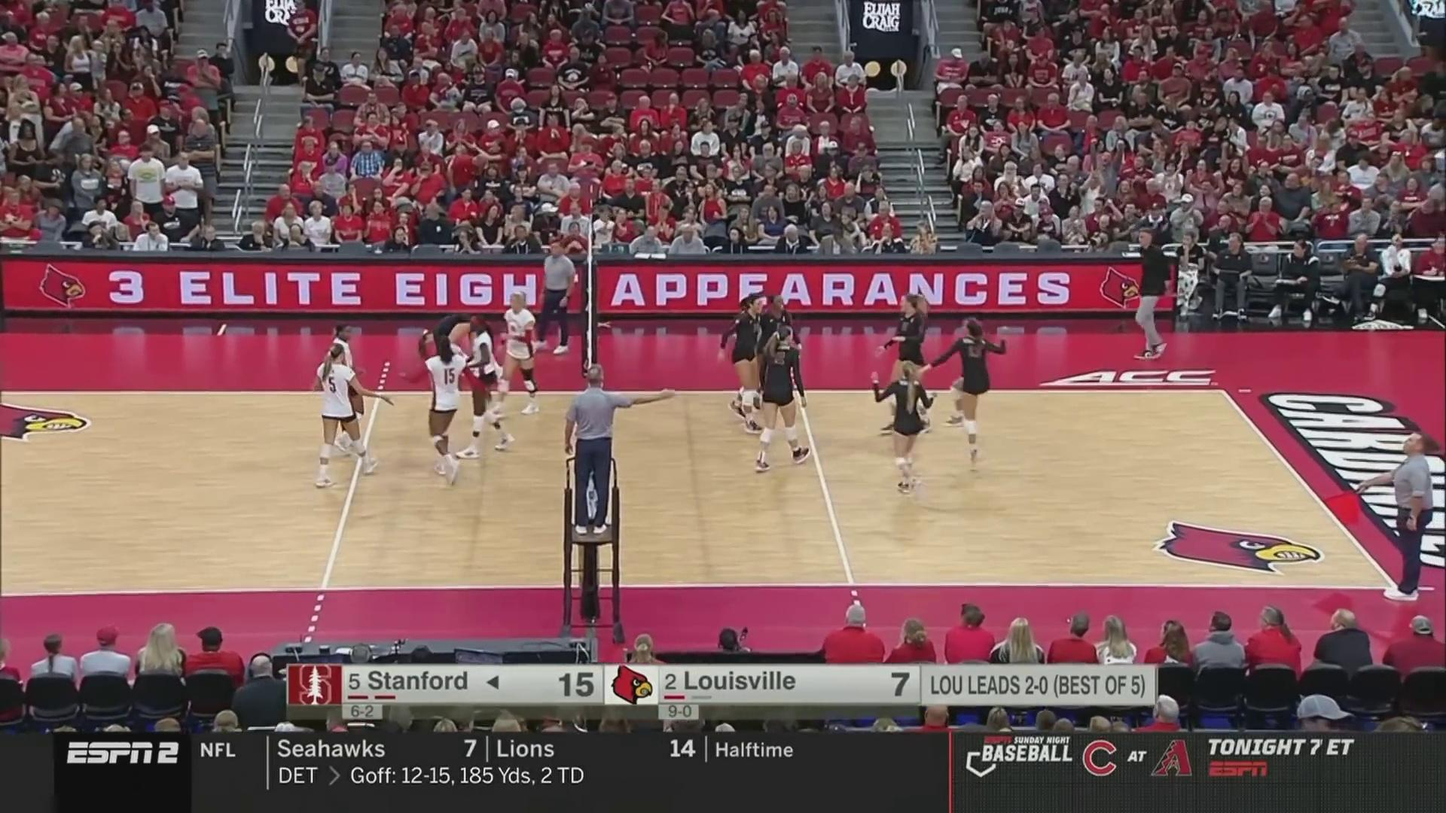player: (936, 323, 1014, 468), (415, 337, 479, 485), (312, 348, 376, 487), (876, 363, 940, 498), (758, 325, 812, 473), (877, 294, 933, 433), (460, 315, 514, 458), (493, 290, 545, 423), (718, 294, 765, 434), (418, 311, 502, 380), (758, 291, 802, 421), (325, 322, 367, 455)
refree: (1357, 431, 1435, 603), (565, 365, 637, 531), (532, 238, 579, 355)
